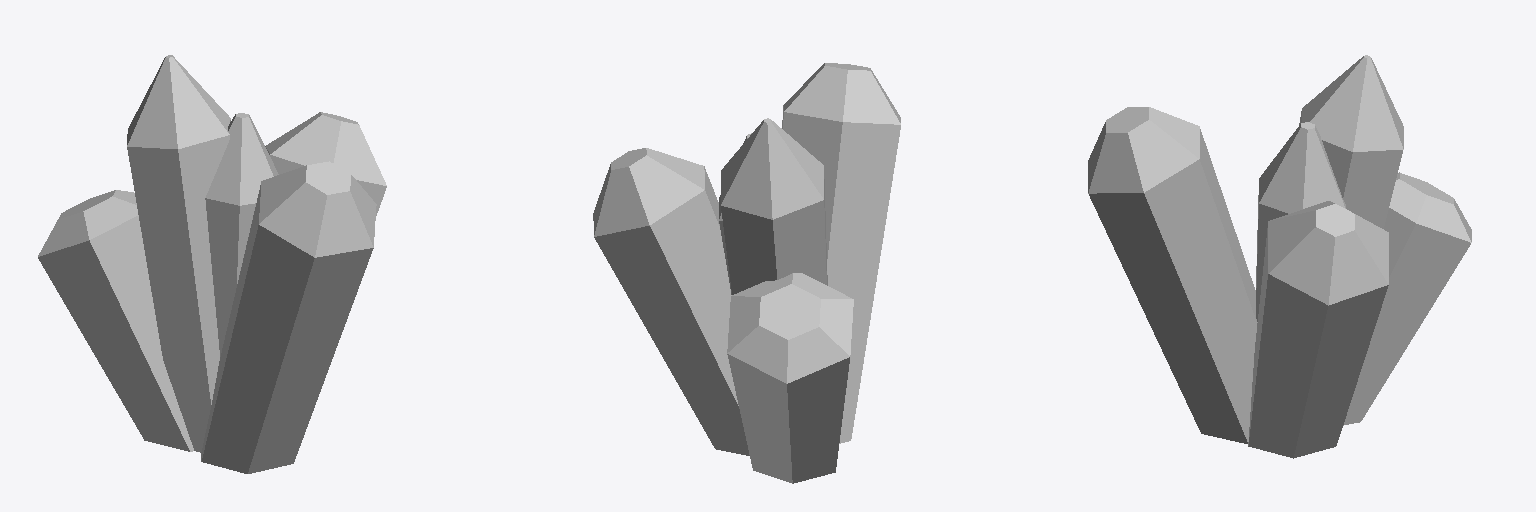
File: aircrystal.obj
3 views of the same model, side by side, from view 1: azimuth 30°, elevation 25°; view 2: azimuth 150°, elevation 25°; view 3: azimuth 270°, elevation 25° (orthographic).
Parts seen in each view (by area): view 1: Crystal_Customizer5; view 2: Crystal_Customizer5; view 3: Crystal_Customizer5.
Part boxes in pixels (left/top/right/bottom): Crystal_Customizer5: left=38, top=55, right=386, bottom=473; Crystal_Customizer5: left=593, top=63, right=900, bottom=483; Crystal_Customizer5: left=1088, top=55, right=1471, bottom=458.
Bounding box in the file's own units: 0.6795 × 0.771 × 0.7501.